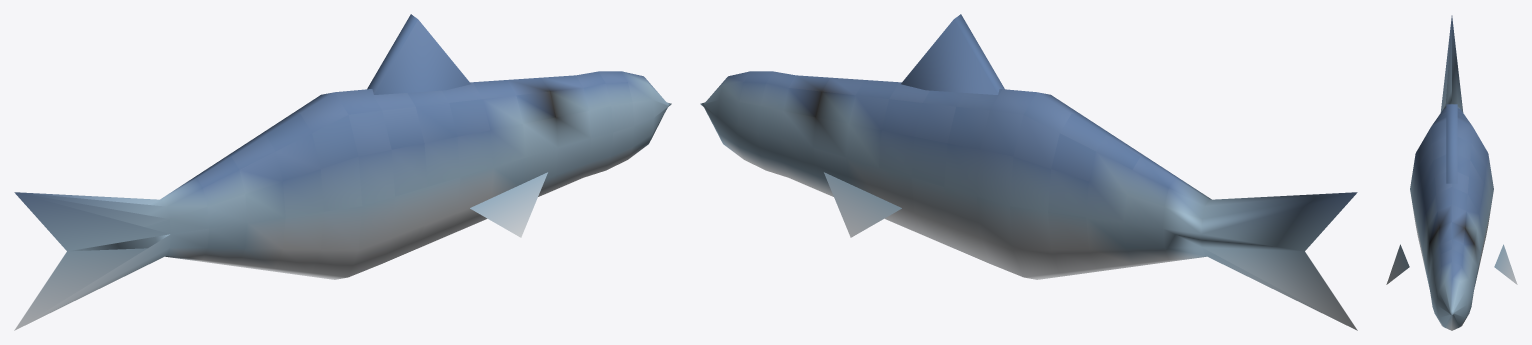
Rendered from Bluefish.glb.
3 renders of one model, left to right at view 1: azimuth 30°, elevation 25°; view 2: azimuth 150°, elevation 25°; view 3: azimuth 270°, elevation 25°, orthographic. The views are drawn at different scales.
Visible parts, largest first — view 1: Bluefish; view 2: Bluefish; view 3: Bluefish.
Boxes of the visible parts, bbox=[...] form: Bluefish: bbox=[14, 14, 671, 330]; Bluefish: bbox=[700, 14, 1357, 330]; Bluefish: bbox=[1386, 15, 1517, 330].
Size of the model in its own units: 1.24 by 0.4391 by 0.28.
